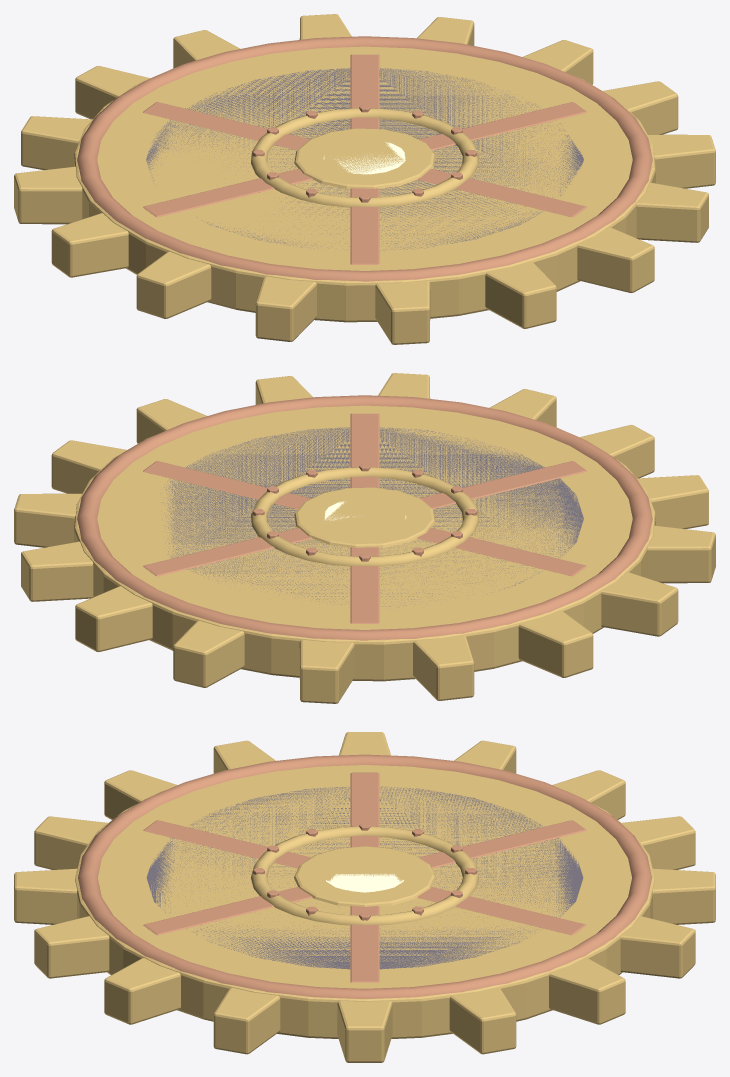
The model's file is brass_gear.glb.
3 renders of one model, top to bottom at view 1: azimuth 30°, elevation 25°; view 2: azimuth 150°, elevation 25°; view 3: azimuth 270°, elevation 25°, orthographic.
Parts seen in each view (by area): view 1: GearDisc, HubBolt0, InnerPlate, HubGlow; view 2: GearDisc, HubBolt0, InnerPlate; view 3: GearDisc, HubBolt0, InnerPlate, HubGlow.
Boxes of the visible parts, x1=… form: GearDisc: x1=14, y1=14, x2=715, y2=344; HubBolt0: x1=77, y1=36, x2=652, y2=281; InnerPlate: x1=146, y1=68, x2=583, y2=249; HubGlow: x1=323, y1=142, x2=405, y2=174; GearDisc: x1=14, y1=373, x2=715, y2=703; HubBolt0: x1=77, y1=395, x2=652, y2=640; InnerPlate: x1=161, y1=427, x2=583, y2=609; GearDisc: x1=14, y1=732, x2=715, y2=1062; HubBolt0: x1=78, y1=754, x2=651, y2=998; InnerPlate: x1=146, y1=786, x2=583, y2=969; HubGlow: x1=326, y1=873, x2=403, y2=892.
Bounding box in the file's own units: 8.74 × 0.79 × 8.74.
